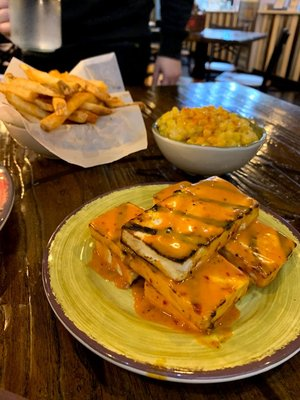pizza: (7, 0, 63, 53)
sushi: (151, 105, 268, 177)
